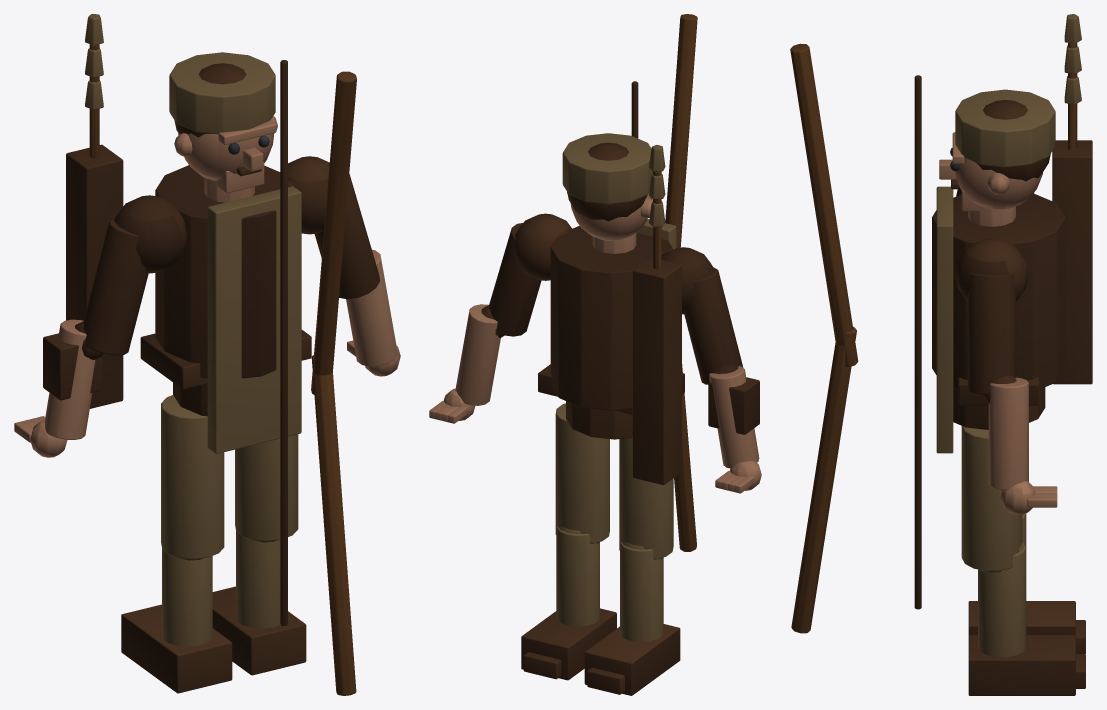
File: unit_royal_longbow.fbx
3 renders of one model, left to right at view 1: azimuth 30°, elevation 25°; view 2: azimuth 150°, elevation 25°; view 3: azimuth 270°, elevation 25°, orthographic. The views are drawn at different scales.
Visible parts, largest first — view 1: unit_royal_longbow; view 2: unit_royal_longbow; view 3: unit_royal_longbow.
Part boxes in pixels (x1,y1,x2,y2): unit_royal_longbow: (14,14,400,695); unit_royal_longbow: (429,14,761,695); unit_royal_longbow: (790,14,1092,695).
Bounding box in the file's own units: 1.18 × 2.06 × 0.9011.
